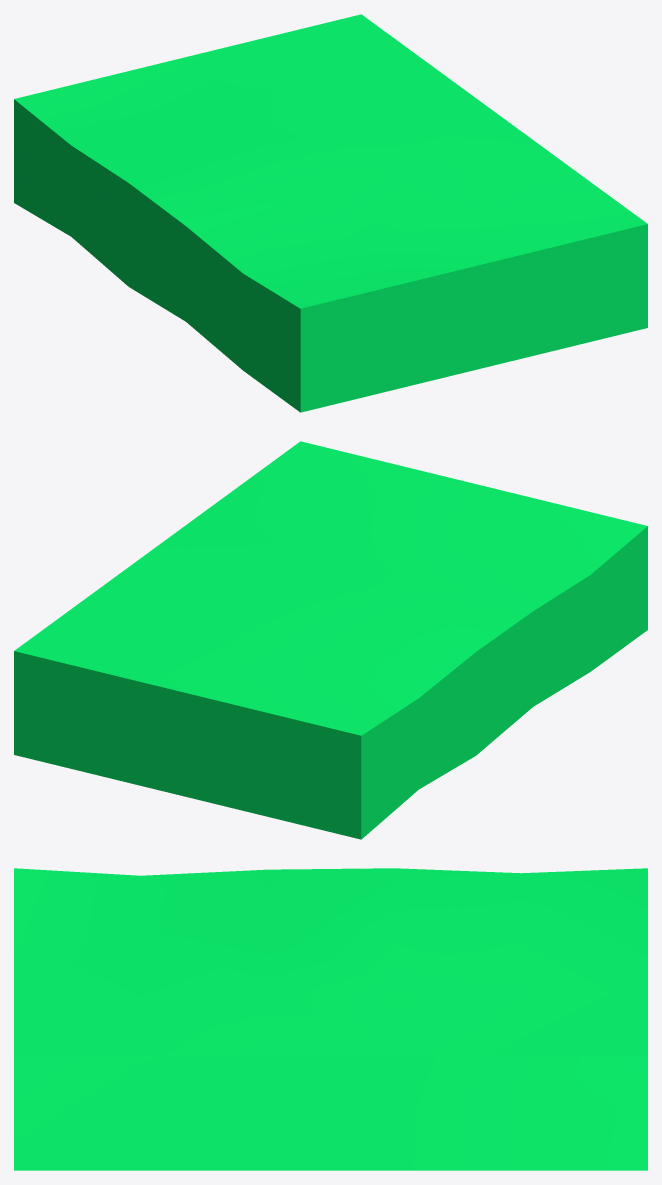
The model's file is Floor.FBX.
3 views of the same model, one above another, from view 1: azimuth 30°, elevation 25°; view 2: azimuth 150°, elevation 25°; view 3: azimuth 270°, elevation 25° (orthographic). The views are drawn at different scales.
Visible parts, largest first — view 1: Floor; view 2: Floor; view 3: Floor.
Boxes of the visible parts, left/top/right/bottom form: Floor: left=14, top=14, right=647, bottom=412; Floor: left=14, top=441, right=647, bottom=839; Floor: left=14, top=868, right=647, bottom=1170.
Size of the model in its own units: 350 by 108 by 500.
